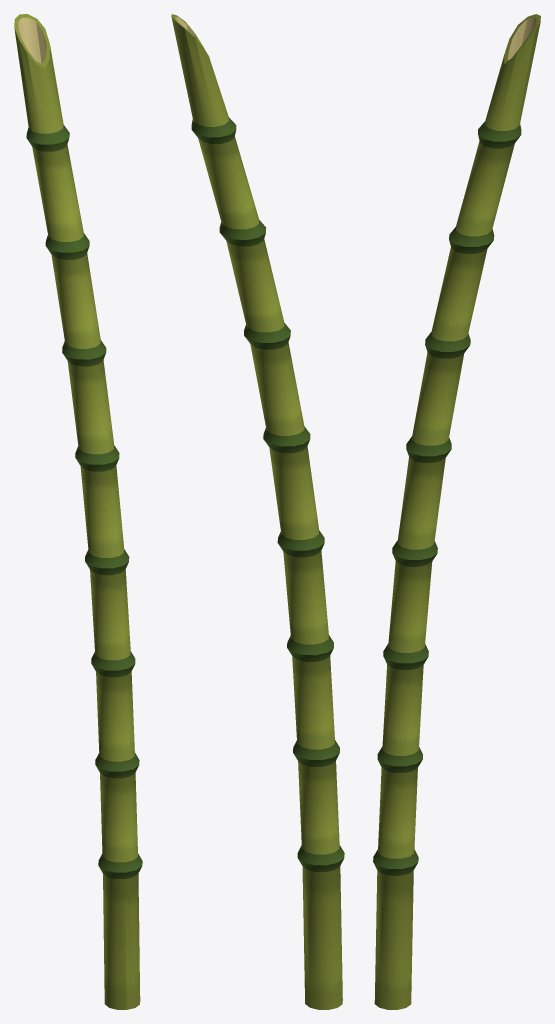
Rendered from bambu_uni_2.fbx.
3 renders of one model, left to right at view 1: azimuth 90°, elevation 25°; view 2: azimuth 150°, elevation 25°; view 3: azimuth 330°, elevation 25°, orthographic. The views are drawn at different scales.
Visible parts, largest first — view 1: bases_2.002; view 2: bases_2.002; view 3: bases_2.002.
Boxes of the visible parts, x1,y1,x2,y2 form: bases_2.002: (14,14,142,1009); bases_2.002: (171,14,344,1009); bases_2.002: (373,14,540,1009).
Size of the model in its own units: 59.91 by 476 by 58.59.
